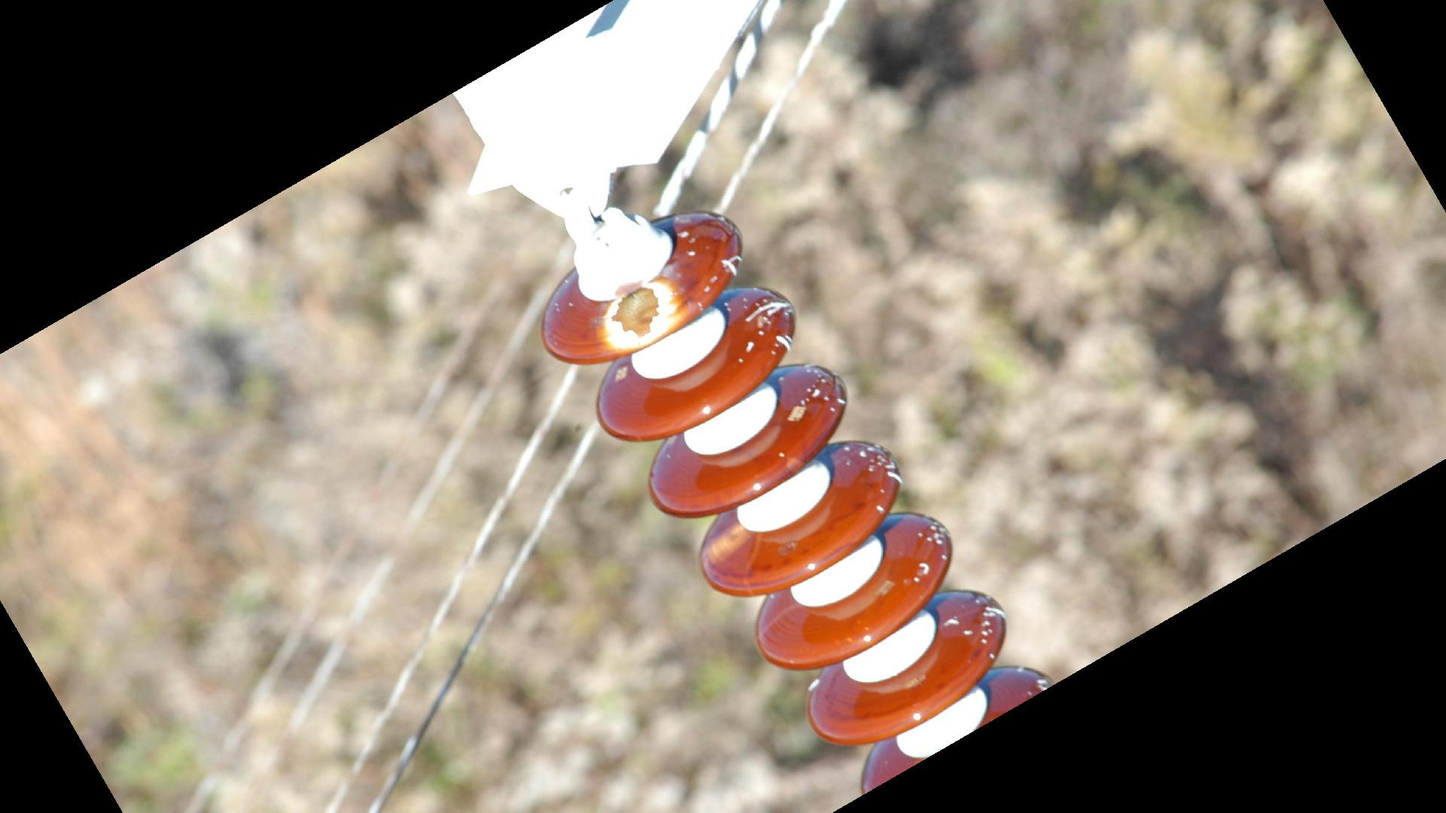insulator: (535, 209, 1060, 800)
insulator_flashover: (600, 273, 688, 357), (695, 523, 748, 569)
